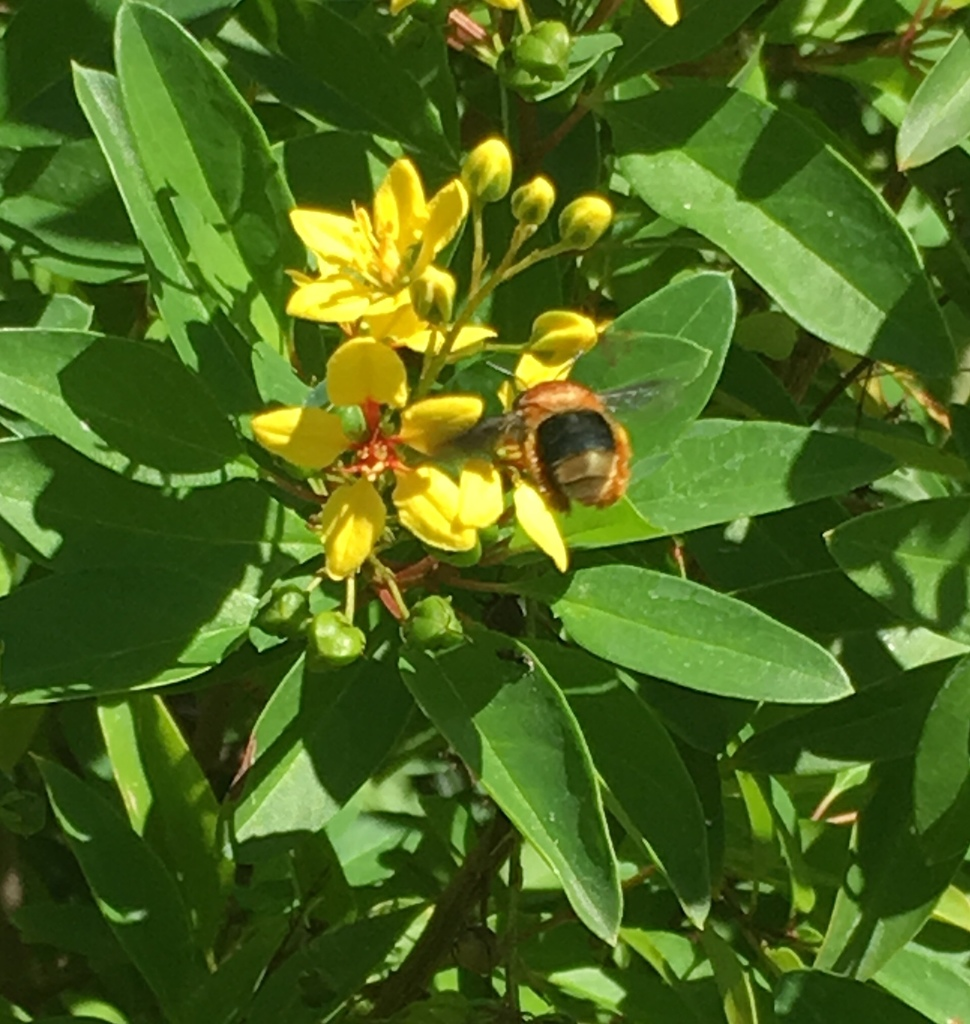not_bumblebee: (425, 358, 670, 517)
